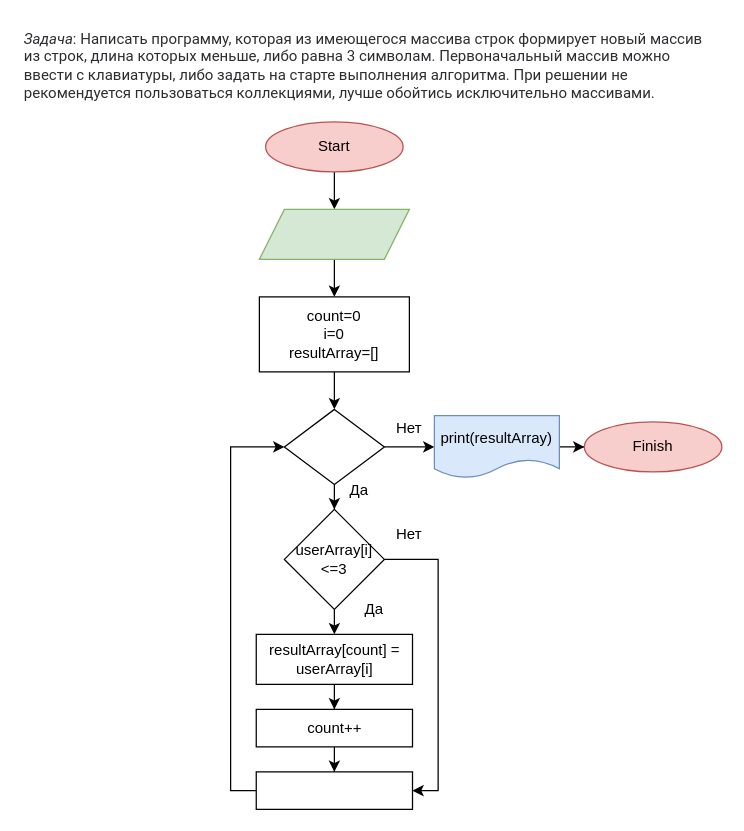
The diagram is 744 pixels wide and 831 high, and some of its shapes have lost their labels. Here are the shapes that lost their labels. From the top down, the centre of each, then its label:
At (x=333, y=233): "N userArray".
At (x=333, y=446): "i<N".
At (x=333, y=790): "i++".
